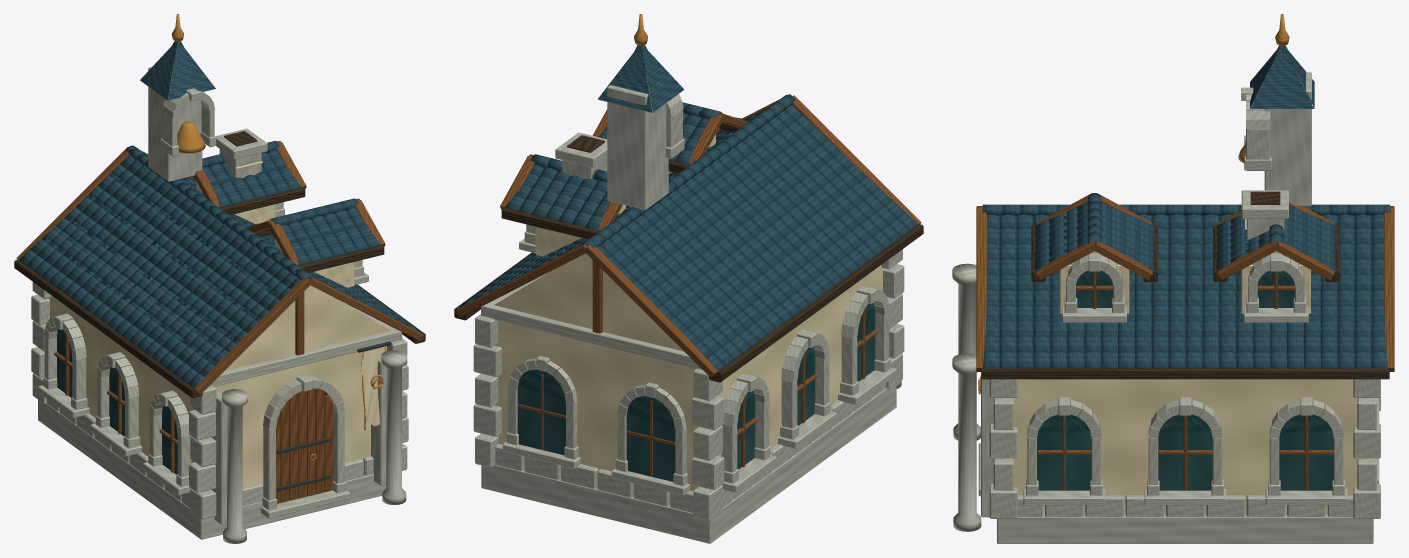
The model's file is harbor_shrine.glb.
3 views of the same model, side by side, from view 1: azimuth 30°, elevation 25°; view 2: azimuth 150°, elevation 25°; view 3: azimuth 270°, elevation 25° (orthographic). The views are drawn at different scales.
Visible parts, largest first — view 1: harbor_shrine_Roof, harbor_shrine_Structure, harbor_shrine_Joinery, harbor_shrine_Detail, harbor_shrine_Glazing, harbor_shrine_Metalwork, harbor_shrine_Cloth; view 2: harbor_shrine_Structure, harbor_shrine_Roof, harbor_shrine_Detail, harbor_shrine_Joinery, harbor_shrine_Glazing; view 3: harbor_shrine_Structure, harbor_shrine_Roof, harbor_shrine_Detail, harbor_shrine_Joinery, harbor_shrine_Glazing.
Boxes of the visible parts, bbox=[...] form: harbor_shrine_Roof: bbox=[19, 41, 420, 388]; harbor_shrine_Structure: bbox=[31, 64, 408, 543]; harbor_shrine_Joinery: bbox=[14, 141, 425, 503]; harbor_shrine_Detail: bbox=[38, 88, 368, 518]; harbor_shrine_Glazing: bbox=[57, 328, 177, 474]; harbor_shrine_Metalwork: bbox=[171, 14, 391, 491]; harbor_shrine_Cloth: bbox=[361, 347, 386, 426]; harbor_shrine_Structure: bbox=[473, 75, 904, 543]; harbor_shrine_Roof: bbox=[459, 45, 918, 371]; harbor_shrine_Detail: bbox=[502, 94, 896, 495]; harbor_shrine_Joinery: bbox=[454, 94, 923, 475]; harbor_shrine_Glazing: bbox=[517, 303, 875, 481]; harbor_shrine_Structure: bbox=[952, 72, 1380, 543]; harbor_shrine_Roof: bbox=[982, 45, 1390, 368]; harbor_shrine_Detail: bbox=[978, 87, 1379, 505]; harbor_shrine_Joinery: bbox=[976, 193, 1394, 490]; harbor_shrine_Glazing: bbox=[1037, 270, 1333, 490].
Size of the model in its own units: 5.14 by 8.62 by 7.3.
Materials: 3 (3 with a texture image).
